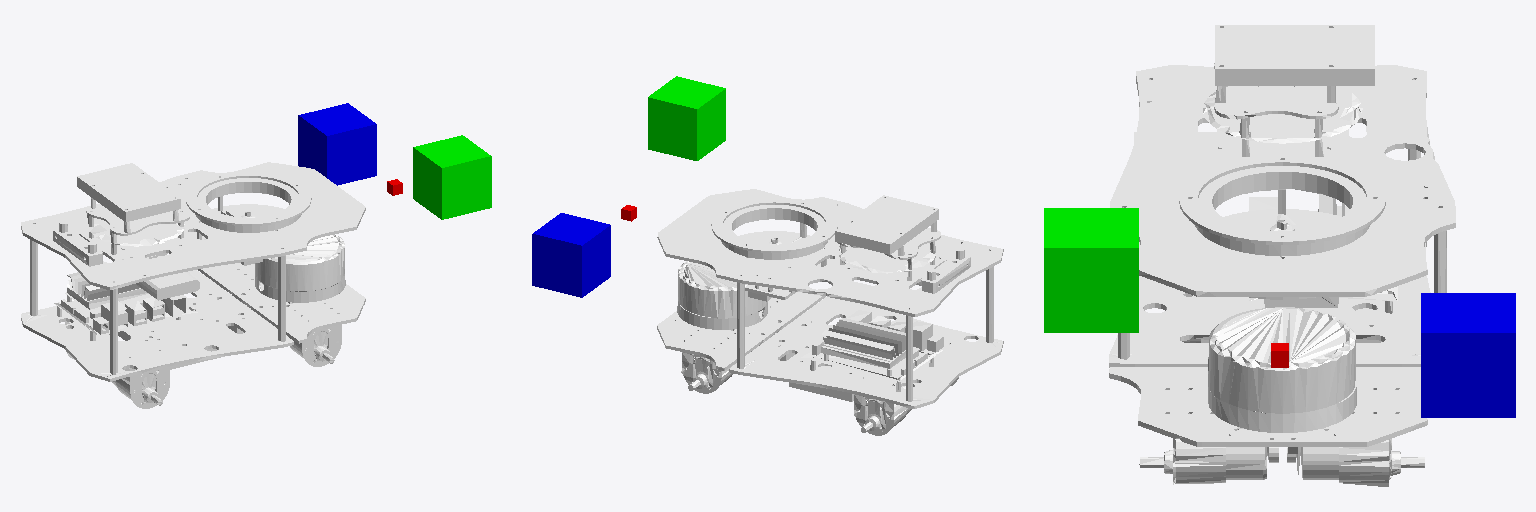
robot.urdf — CyberNaviRobot:
<?xml version="1.0" encoding="utf-8"?>
<robot
  name="CyberNaviRobot">
  <link
    name="base_link">
    <inertial>
      <origin
        xyz="-0.0126930979005275 0.00191328701604972 0.138027242309266"
        rpy="0 0 0" />
      <mass
        value="1.02316767990512" />
      <inertia
        ixx="0.00139586884914313"
        ixy="-1.1634425915606E-06"
        ixz="2.08900696909113E-08"
        iyy="0.00163816424060367"
        iyz="1.3906877128818E-07"
        izz="0.00212627787861002" />
    </inertial>
    <visual>
      <origin
        xyz="-0.14 -0.0925 0"
        rpy="0 0 0" />
      <geometry>
        <mesh
          filename="package://mycar_description/meshes/base_link.STL" />
      </geometry>
      <material
        name="">
        <color
          rgba="1 1 1 1" />
      </material>
    </visual>
    <collision>
      <origin
        xyz="0 0 0"
        rpy="0 0 0" />
      <geometry>
        <mesh
          filename="package://mycar_description/meshes/base_link.STL" />
      </geometry>
    </collision>
  </link>
  <link
    name="left_front_wheel_link">
    <inertial>
      <origin
        xyz="-3.0979511909876E-06 0.0173322020637727 4.43766253017258E-06"
        rpy="0 0 0" />
      <mass
        value="0.0503853041294886" />
      <inertia
        ixx="5.77203859894131E-06"
        ixy="-6.39490308551869E-10"
        ixz="-6.55101507497994E-10"
        iyy="7.74120907350755E-06"
        iyz="1.14467480632514E-09"
        izz="5.77288622221224E-06" />
    </inertial>
    <visual>
      <origin
        xyz="0 0 0"
        rpy="0 0 0" />
      <geometry>
        <mesh
          filename="package://mycar_description/meshes/left_front_wheel_link.STL" />
      </geometry>
      <material
        name="">
        <color
          rgba="1 1 1 1" />
      </material>
    </visual>
    <collision>
      <origin
        xyz="0 0 0"
        rpy="0 0 0" />
      <geometry>
        <mesh
          filename="package://mycar_description/meshes/left_front_wheel_link.STL" />
      </geometry>
    </collision>
  </link>
  <joint
    name="left_front_wheel_joint"
    type="continuous">
    <origin
      xyz="0.094976 0.076703 0.038001"
      rpy="0 0 0" />
    <parent
      link="base_link" />
    <child
      link="left_front_wheel_link" />
    <axis
      xyz="0 1 0" />
  </joint>
  <link
    name="left_rear_wheel_link">
    <inertial>
      <origin
        xyz="-3.06188346035907E-06 0.017331873242395 -5.84140984641324E-06"
        rpy="0 0 0" />
      <mass
        value="0.0503852022031433" />
      <inertia
        ixx="5.7719914844331E-06"
        ixy="-6.47591418647473E-10"
        ixz="6.3996728285628E-10"
        iyy="7.74122667602425E-06"
        iyz="-1.13209672720901E-09"
        izz="5.77285855433357E-06" />
    </inertial>
    <visual>
      <origin
        xyz="0 0 0"
        rpy="0 0 0" />
      <geometry>
        <mesh
          filename="package://mycar_description/meshes/left_rear_wheel_link.STL" />
      </geometry>
      <material
        name="">
        <color
          rgba="1 1 1 1" />
      </material>
    </visual>
    <collision>
      <origin
        xyz="0 0 0"
        rpy="0 0 0" />
      <geometry>
        <mesh
          filename="package://mycar_description/meshes/left_rear_wheel_link.STL" />
      </geometry>
    </collision>
  </link>
  <joint
    name="left_rear_wheel_joint"
    type="continuous">
    <origin
      xyz="-0.078024 0.076703 0.038001"
      rpy="0 0 0" />
    <parent
      link="base_link" />
    <child
      link="left_rear_wheel_link" />
    <axis
      xyz="0 1 0" />
  </joint>
  <link
    name="right_front_wheel_link">
    <inertial>
      <origin
        xyz="3.06240360546661E-06 -0.0173318735620233 -5.84117647387666E-06"
        rpy="0 0 0" />
      <mass
        value="0.0503852021760132" />
      <inertia
        ixx="5.77199099297903E-06"
        ixy="-6.47832070333766E-10"
        ixz="-6.39570296767498E-10"
        iyy="7.74122684098967E-06"
        iyz="1.13229861557678E-09"
        izz="5.7728593340892E-06" />
    </inertial>
    <visual>
      <origin
        xyz="0 0 0"
        rpy="0 0 0" />
      <geometry>
        <mesh
          filename="package://mycar_description/meshes/right_front_wheel_link.STL" />
      </geometry>
      <material
        name="">
        <color
          rgba="1 1 1 1" />
      </material>
    </visual>
    <collision>
      <origin
        xyz="0 0 0"
        rpy="0 0 0" />
      <geometry>
        <mesh
          filename="package://mycar_description/meshes/right_front_wheel_link.STL" />
      </geometry>
    </collision>
  </link>
  <joint
    name="right_front_wheel_joint"
    type="continuous">
    <origin
      xyz="0.094976 -0.075297 0.038001"
      rpy="0 0 0" />
    <parent
      link="base_link" />
    <child
      link="right_front_wheel_link" />
    <axis
      xyz="0 1 0" />
  </joint>
  <link
    name="right_rear_wheel_link">
    <inertial>
      <origin
        xyz="3.09795119093903E-06 -0.0173322020637727 4.43766253057504E-06"
        rpy="0 0 0" />
      <mass
        value="0.0503853041294886" />
      <inertia
        ixx="5.77203859894127E-06"
        ixy="-6.39490308545873E-10"
        ixz="6.55101507484353E-10"
        iyy="7.7412090735075E-06"
        iyz="-1.14467480634659E-09"
        izz="5.77288622221223E-06" />
    </inertial>
    <visual>
      <origin
        xyz="0 0 0"
        rpy="0 0 0" />
      <geometry>
        <mesh
          filename="package://mycar_description/meshes/right_rear_wheel_link.STL" />
      </geometry>
      <material
        name="">
        <color
          rgba="1 1 1 1" />
      </material>
    </visual>
    <collision>
      <origin
        xyz="0 0 0"
        rpy="0 0 0" />
      <geometry>
        <mesh
          filename="package://mycar_description/meshes/right_rear_wheel_link.STL" />
      </geometry>
    </collision>
  </link>
  <joint
    name="right_rear_wheel_joint"
    type="continuous">
    <origin
      xyz="-0.078024 -0.075297 0.038001"
      rpy="0 0 0" />
    <parent
      link="base_link" />
    <child
      link="right_rear_wheel_link" />
    <axis
      xyz="0 1 0" />
  </joint>

  <!-- Laser -->
  <link name="laser">
    <inertial>
      <mass value="0.1" />
      <origin xyz="0 0 0" rpy="0 0 0" />
      <inertia ixx="0.001" ixy="0.0" ixz="0.0" iyy="0.001" iyz="0.0" izz="0.001" />
    </inertial>
    <visual>
      <origin xyz="0 0 0" rpy="0 0 0" />
      <geometry>
        <box size="0.01 0.01 0.01" />
      </geometry>
      <material name="red">
        <color rgba="1 0 0 1" />
      </material>
    </visual>
    <collision>
      <origin xyz="0 0 0" rpy="0 0 0" />
      <geometry>
        <box size="0.05 0.05 0.05" />
      </geometry>
    </collision>
  </link>
  <joint name="laser_joint" type="fixed">
    <parent link="base_link" />
    <child link="laser" />
    <origin xyz="0.2 0 0.15" rpy="0 0 0" /> <!-- 激光雷达位置 -->
  </joint>

  <!-- Camera -->
  <link name="camera">
    <inertial>
      <mass value="0.1" />
      <origin xyz="0 0 0" rpy="0 0 0" />
      <inertia ixx="0.001" ixy="0.0" ixz="0.0" iyy="0.001" iyz="0.0" izz="0.001" />
    </inertial>
    <visual>
      <origin xyz="0 0 0" rpy="0 0 0" />
      <geometry>
        <box size="0.05 0.05 0.05" />
      </geometry>
      <material name="blue">
        <color rgba="0 0 1 1" />
      </material>
    </visual>
    <collision>
      <origin xyz="0 0 0" rpy="0 0 0" />
      <geometry>
        <box size="0.05 0.05 0.05" />
      </geometry>
    </collision>
  </link>
  <joint name="camera_joint" type="fixed">
    <parent link="base_link" />
    <child link="camera" />
    <origin xyz="0.2 0.1 0.15" rpy="0 0 0" /> <!-- 相机位置（向右偏移 0.1 米） -->
  </joint>

  <!-- Depth Camera -->
  <link name="depth_camera">
    <inertial>
      <mass value="0.1" />
      <origin xyz="0 0 0" rpy="0 0 0" />
      <inertia ixx="0.001" ixy="0.0" ixz="0.0" iyy="0.001" iyz="0.0" izz="0.001" />
    </inertial>
    <visual>
      <origin xyz="0 0 0" rpy="0 0 0" />
      <geometry>
        <box size="0.05 0.05 0.05" />
      </geometry>
      <material name="green">
        <color rgba="0 1 0 1" />
      </material>
    </visual>
    <collision>
      <origin xyz="0 0 0" rpy="0 0 0" />
      <geometry>
        <box size="0.05 0.05 0.05" />
      </geometry>
    </collision>
  </link>
  <joint name="depth_camera_joint" type="fixed">
    <parent link="base_link" />
    <child link="depth_camera" />
    <origin xyz="0.2 -0.1 0.2" rpy="0 0 0" /> <!-- 深度相机位置（向左偏移 0.1 米） -->
  </joint>


<!-- 运动控制插件 -->
<gazebo>
    <plugin
        filename="ignition-gazebo-diff-drive-system"
        name="ignition::gazebo::systems::DiffDrive">
        <left_joint>left_front_wheel_joint</left_joint>
        <left_joint>left_rear_wheel_joint</left_joint>
        <right_joint>right_front_wheel_joint</right_joint>
        <right_joint>right_rear_wheel_joint</right_joint>
        <wheel_separation>0.4</wheel_separation>
        <wheel_radius>0.0415</wheel_radius>
        <odom_publish_frequency>50</odom_publish_frequency>
        <frame_id>odom</frame_id>
        <child_frame_id>base_link</child_frame_id>
        <topic>/cmd_vel</topic>
        <max_linear_acceleration>10</max_linear_acceleration>
        <min_linear_acceleration>-10</min_linear_acceleration>
        <max_angular_acceleration>10</max_angular_acceleration>
        <min_angular_acceleration>-10</min_angular_acceleration>
        <max_linear_velocity>0.5</max_linear_velocity>
        <min_linear_velocity>-0.5</min_linear_velocity>
        <max_angular_velocity>1</max_angular_velocity>
        <min_angular_velocity>-1</min_angular_velocity>
      </plugin>
  </gazebo>
  <!-- 关节状态发布 -->
  <gazebo>
    <plugin filename="ignition-gazebo-joint-state-publisher-system"
      name="ignition::gazebo::systems::JointStatePublisher">
    </plugin>
  </gazebo>



  <!-- 添加传感器插件 -->

<gazebo>
    <plugin
      filename="ignition-gazebo-sensors-system"
      name="ignition::gazebo::systems::Sensors">
      <render_engine>ogre2</render_engine>
    </plugin>
  </gazebo>

 <!-- 雷达传感器 -->
  <gazebo reference="laser">
    <sensor name='gpu_lidar' type='gpu_lidar'>
      <topic>scan</topic>
      <update_rate>30</update_rate>
      <lidar>
        <scan>
          <horizontal>
            <samples>640</samples>
            <resolution>1</resolution>
            <min_angle>-3.1415926</min_angle>
            <max_angle>3.1415926</max_angle>
          </horizontal>
          <vertical>
            <samples>16</samples>
            <resolution>1</resolution>
            <min_angle>-0.261799</min_angle>
            <max_angle>0.261799</max_angle>
          </vertical>
        </scan>
        <range>
          <min>0.1</min>
          <max>10.0</max>
          <resolution>0.01</resolution>
        </range>
      </lidar>
      <alwaysOn>1</alwaysOn>
      <visualize>true</visualize>
      <ignition_frame_id>laser</ignition_frame_id>
    </sensor>
  </gazebo>

  <!-- 单目相机 -->

  <gazebo reference="camera" >
    <sensor name="cam_link" type="camera">
      <update_rate>10.0</update_rate>
      <always_on>true</always_on>
      <ignition_frame_id>camera</ignition_frame_id>
      <pose>0 0 0 0 0 0</pose>
      <topic>/image_raw</topic>
      <camera name="my_camera">
        <horizontal_fov>1.3962634</horizontal_fov>
        <image>
           <width>600</width>
           <height>600</height>
           <format>R8G8B8</format>
        </image>
        <clip>
          <near>0.02</near>
          <far>300</far>
        </clip>
      </camera>
    </sensor>
  </gazebo>

  <!-- 深度相机 -->

  <gazebo reference="camera">
    <sensor name="depth_camera" type="depth_camera">
          <update_rate>10</update_rate>
          <topic>depth_camera</topic>
          <camera>
            <horizontal_fov>1.05</horizontal_fov>
            <image>
              <width>256</width>
              <height>256</height>
              <format>R_FLOAT32</format>
            </image>
            <clip>
              <near>0.1</near>
              <far>10.0</far>
            </clip>
          </camera>
          <alwaysOn>1</alwaysOn>
          <ignition_frame_id>depth_camera</ignition_frame_id>
      </sensor>
  </gazebo>


</robot>

--- What the picture shows (computed from the rendered views, not written in the file) ---
The picture shows the robot from 3 angles, left to right: view 1: azimuth 30°, elevation 25°; view 2: azimuth 150°, elevation 25°; view 3: azimuth 270°, elevation 25°; orthographic projection.
Model CyberNaviRobot with 8 links and 7 joints (4 continuous, 3 fixed), rooted at base_link, posed every joint at zero.
Links seen in each view (by area): view 1: base_link, depth_camera, camera; view 2: base_link, camera, depth_camera; view 3: base_link, camera, depth_camera.
Boxes of the visible links, bbox=[...] form: base_link: bbox=[21, 162, 365, 408]; depth_camera: bbox=[413, 135, 491, 219]; camera: bbox=[298, 103, 376, 185]; base_link: bbox=[657, 189, 1003, 435]; camera: bbox=[532, 213, 610, 297]; depth_camera: bbox=[648, 76, 725, 160]; base_link: bbox=[1109, 25, 1455, 486]; camera: bbox=[1421, 293, 1515, 417]; depth_camera: bbox=[1044, 208, 1138, 332].
Size in the robot's own frame: 0.365 by 0.25 by 0.1994 metres.
1 mesh visuals loaded from 5 distinct referenced files (1 binary STL); not drawn: 4 (reference not matched to a file when rendering).